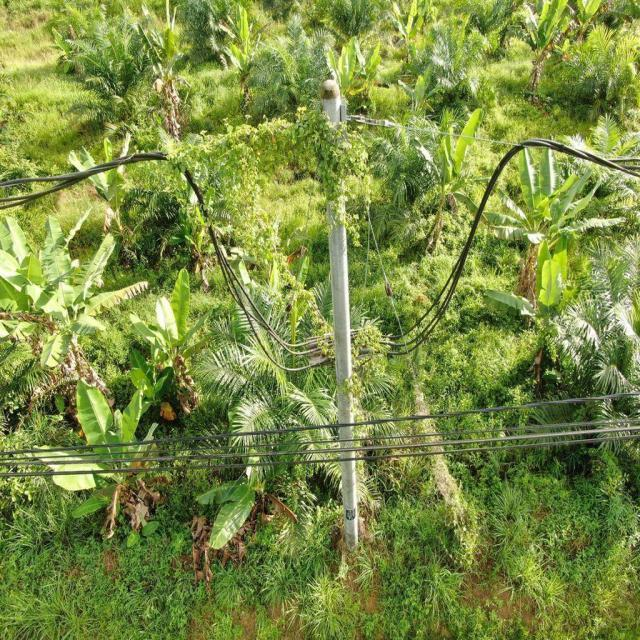critical vegetation: (152, 98, 372, 220), (408, 374, 473, 530), (308, 314, 384, 432)
